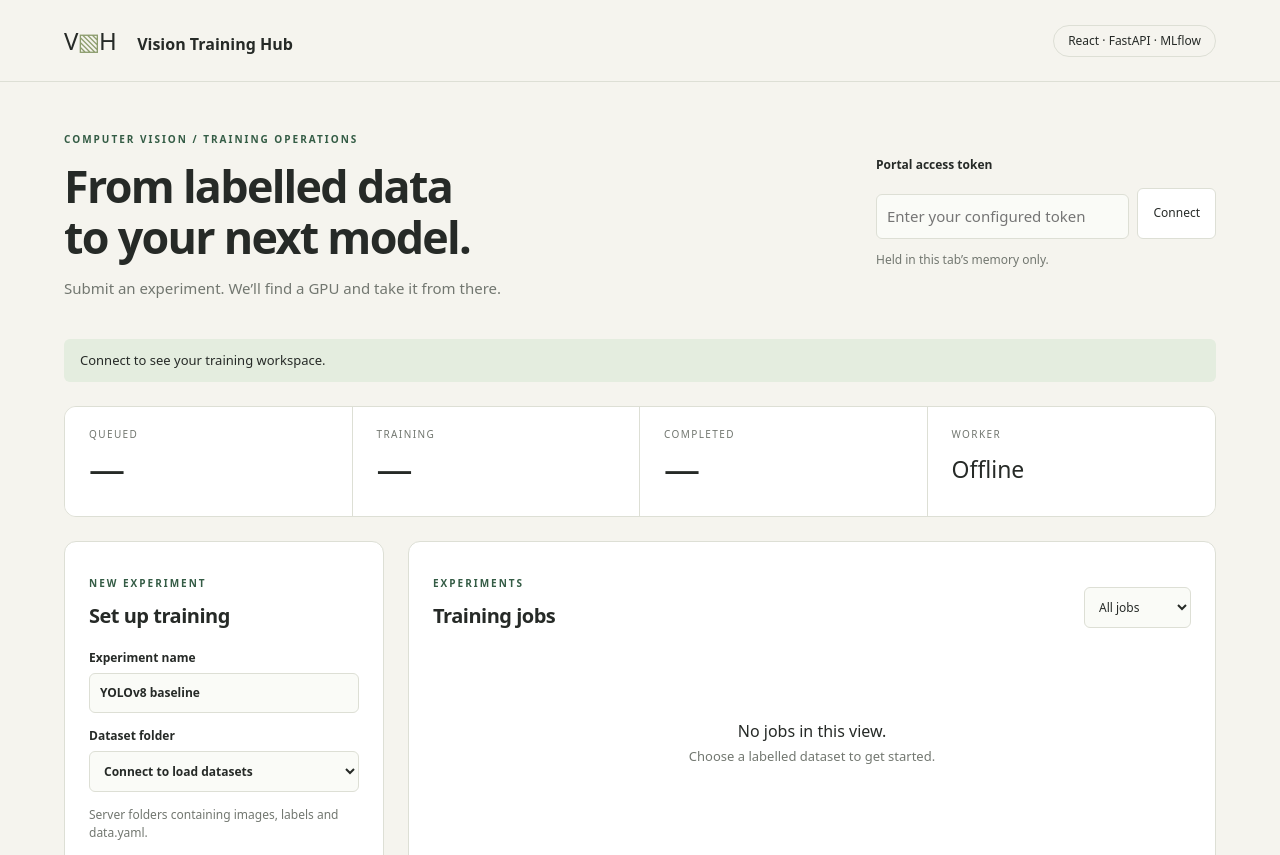
Scenario: React training portal › connects with bearer auth and displays telemetry
The width and height of the screenshot is (1280, 855).
Type "local-token" into the password field labelled "Portal access token" at (1003, 216), box [876,194,1130,239]
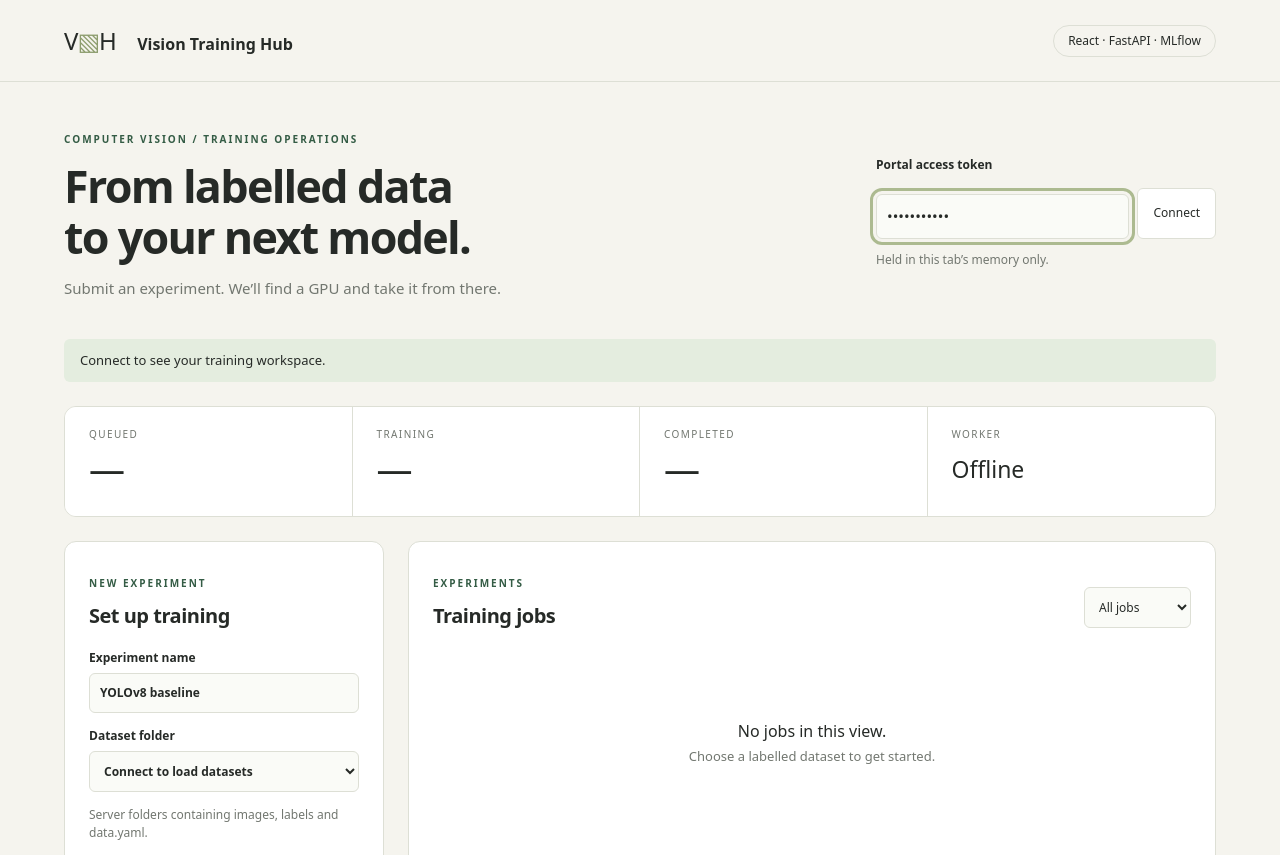
Click the button "Connect" at (1177, 213), box [1138,188,1216,239]
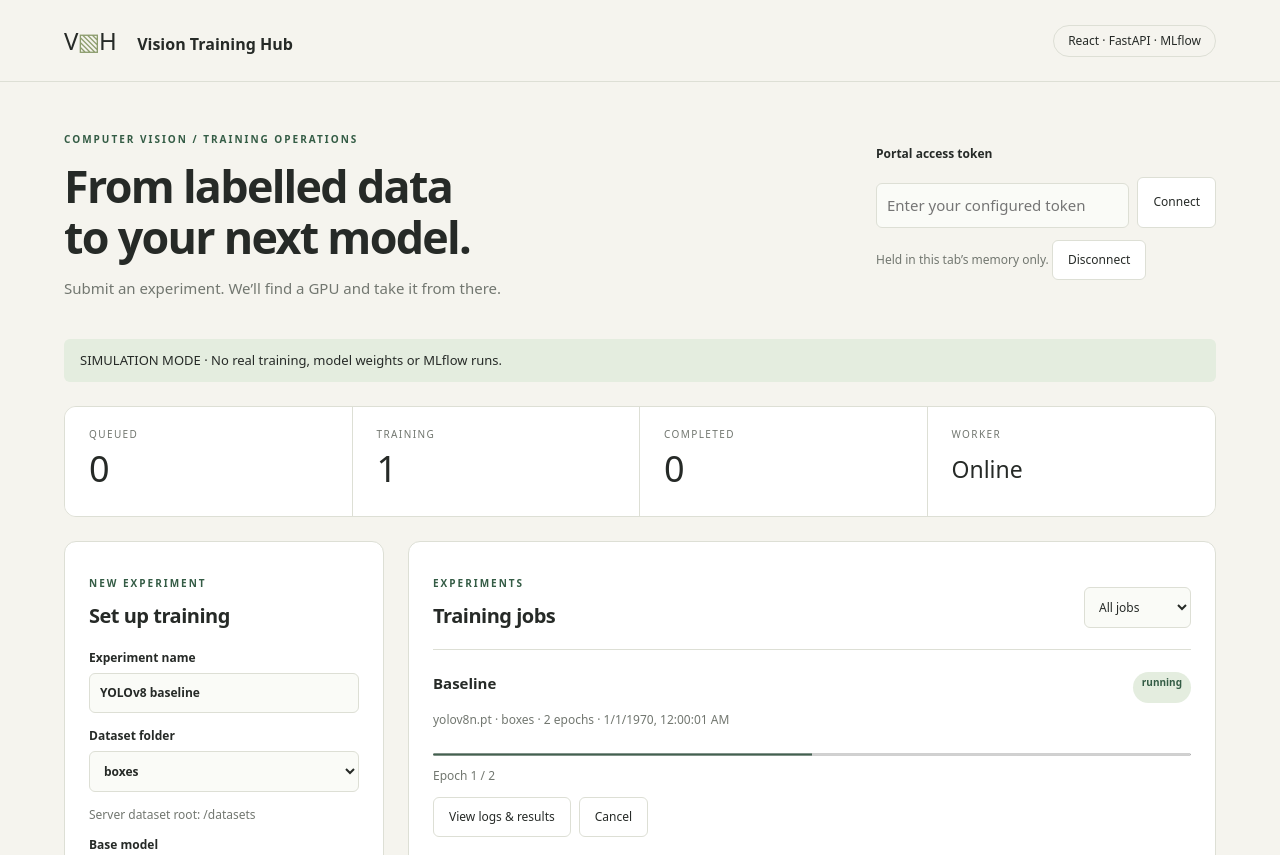
Expected: the heading "Baseline" is shown, [433,672,496,695]
Expected: the password field labelled "Portal access token" is empty, [876,183,1130,228]
